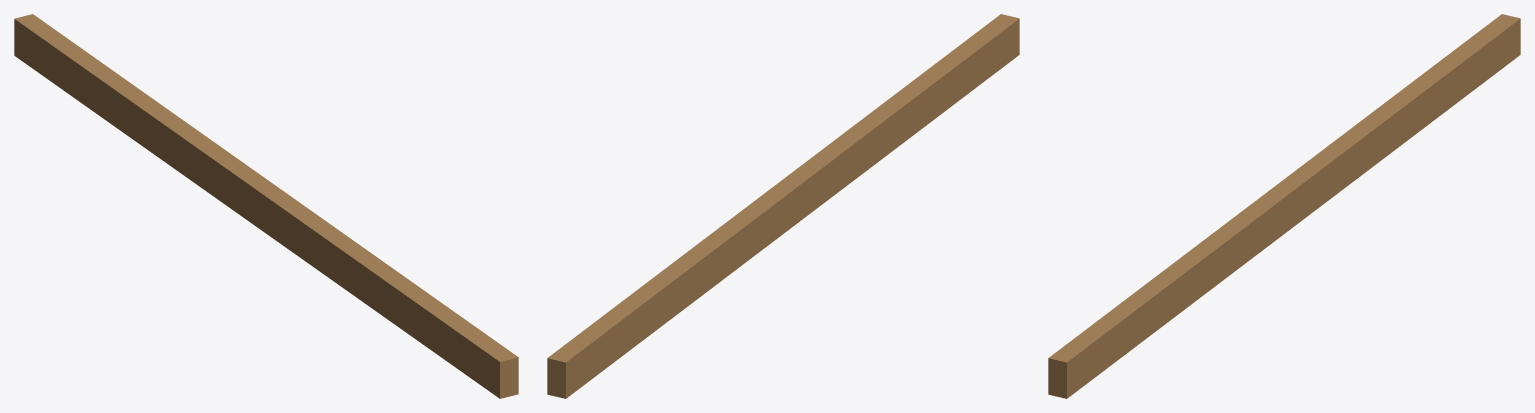
The model's file is cartel_ghost_bot_lev3.glb.
3 views of the same model, side by side, from view 1: azimuth 30°, elevation 25°; view 2: azimuth 150°, elevation 25°; view 3: azimuth 330°, elevation 25° (orthographic).
Visible parts, largest first — view 1: cartel_ghost_bot_lev3; view 2: cartel_ghost_bot_lev3; view 3: cartel_ghost_bot_lev3.
Part boxes in pixels (bbox=[...]): cartel_ghost_bot_lev3: bbox=[14, 14, 518, 398]; cartel_ghost_bot_lev3: bbox=[547, 14, 1019, 398]; cartel_ghost_bot_lev3: bbox=[1048, 14, 1520, 398].
Size of the model in its own units: 0.3501 by 0.3937 by 9.15.
